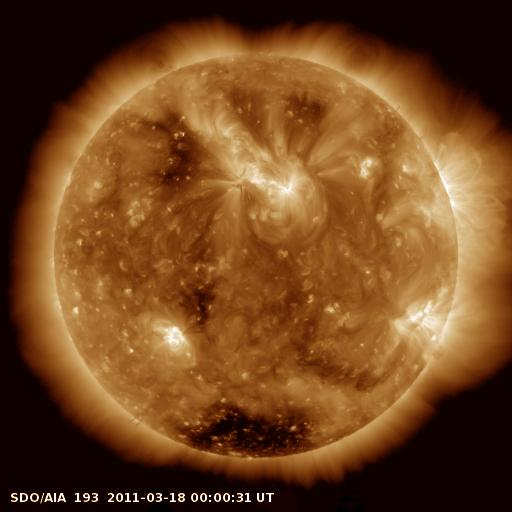coronal_hole: (176, 397, 332, 462), (155, 122, 209, 183)
